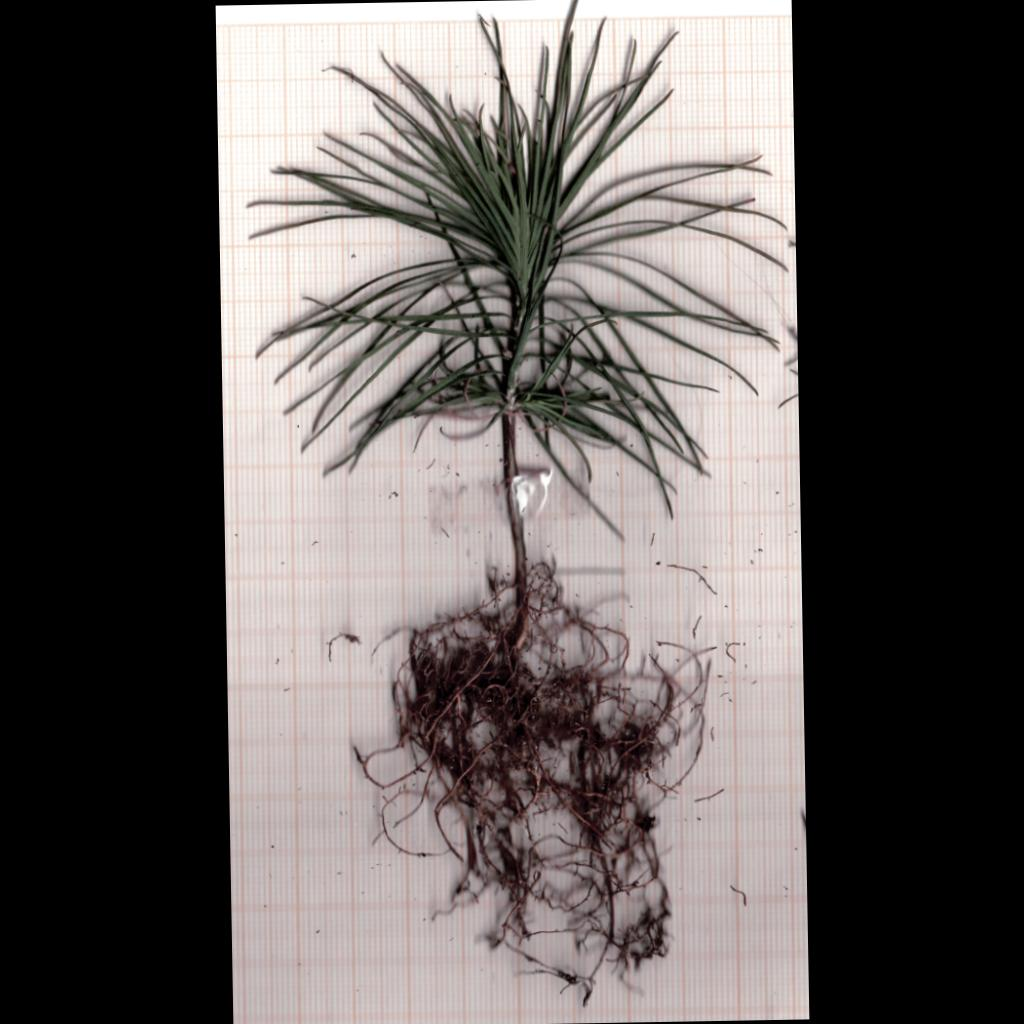flowerCedr: (261, 0, 783, 513)
rootCedr: (356, 563, 708, 1004)
stemCedr: (503, 414, 526, 606)
